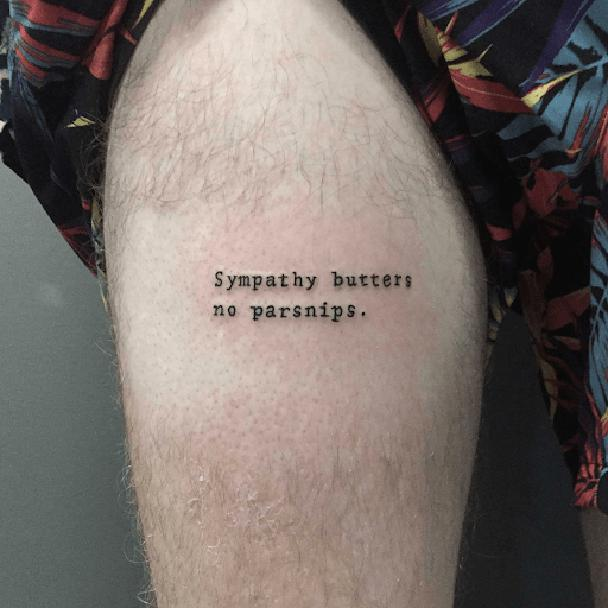tattoos: (212, 269, 413, 322)
